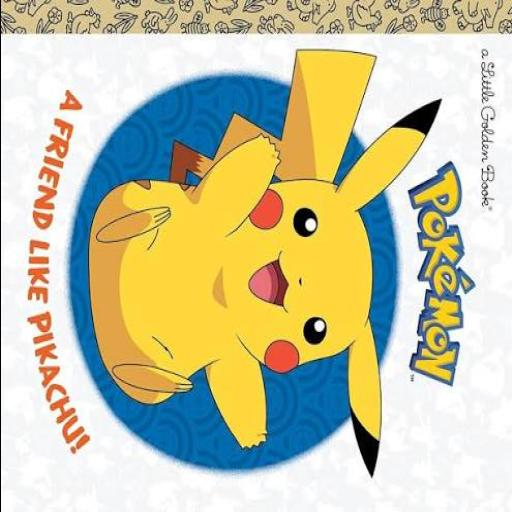Pikachu: (88, 48, 442, 478)
